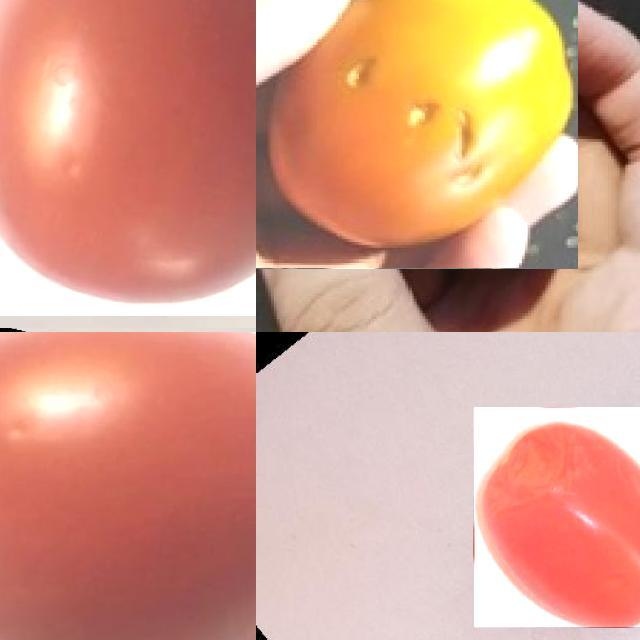Fresh Tomato: (0, 0, 256, 316), (0, 332, 256, 640)
Rotten Tomato: (256, 0, 578, 268), (474, 407, 640, 627)
